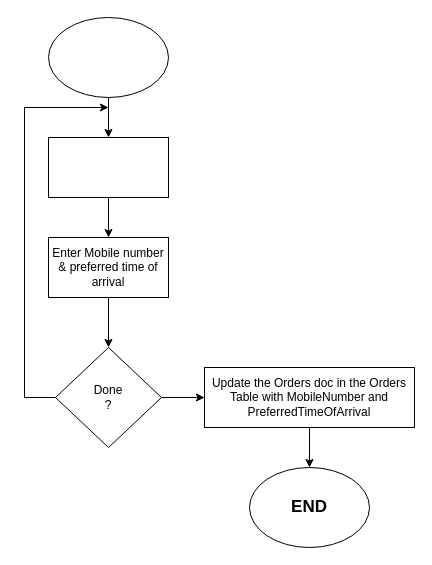
The diagram is 432 pixels wide and 565 high, and some of its shapes have lost their labels. Each missing label, with the centre of its shape:
Confirmation Message: pixel 108 167
Start: pixel 108 57
